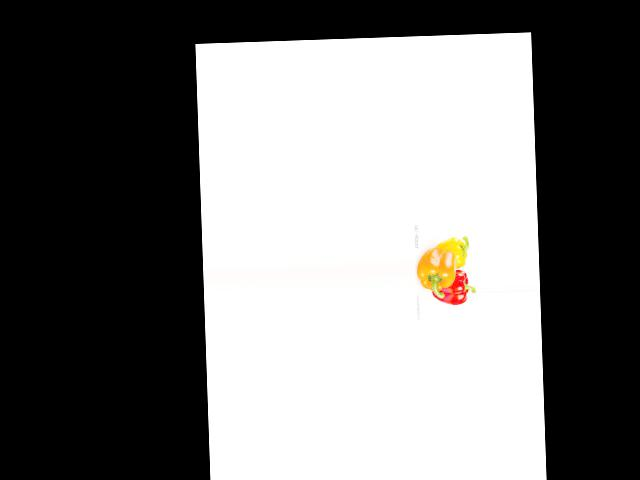bell_pepper: (433, 234, 472, 270)
